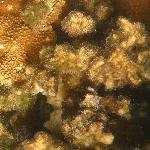dead: (4, 2, 145, 146)
